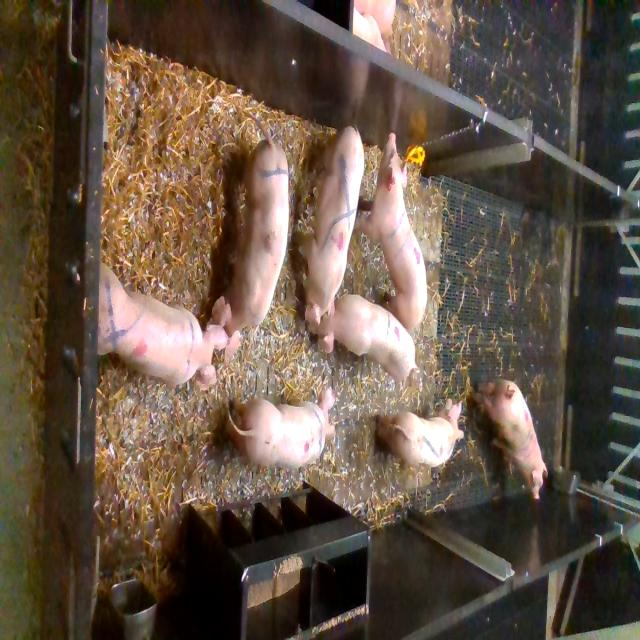pig: (206, 110, 290, 368), (98, 260, 231, 392), (291, 124, 365, 326), (353, 132, 428, 328), (308, 294, 421, 390), (225, 386, 337, 469), (471, 379, 548, 499), (377, 398, 464, 468)
